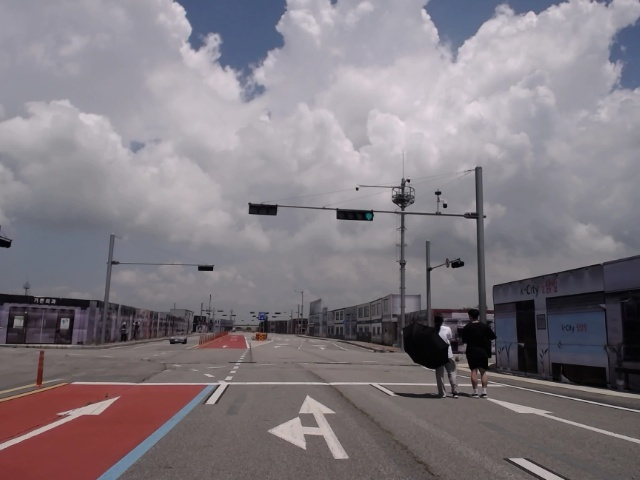straight_green_4: (337, 208, 374, 220)
